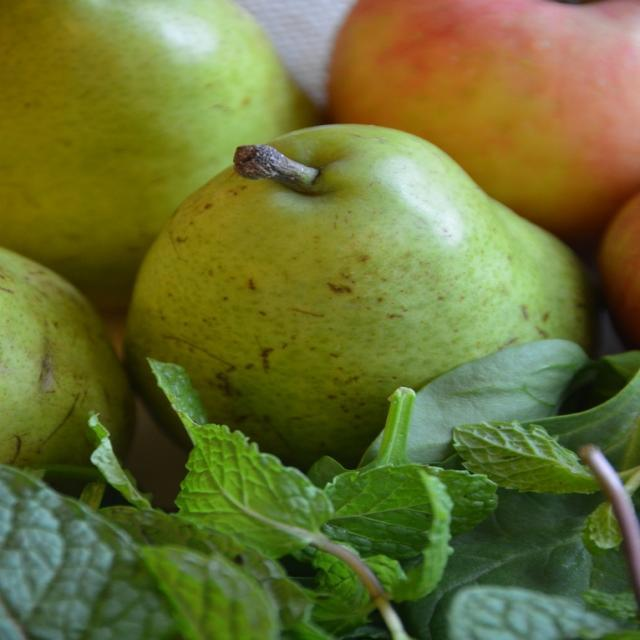Pear: (123, 123, 596, 475), (0, 0, 323, 292), (0, 242, 131, 477)
